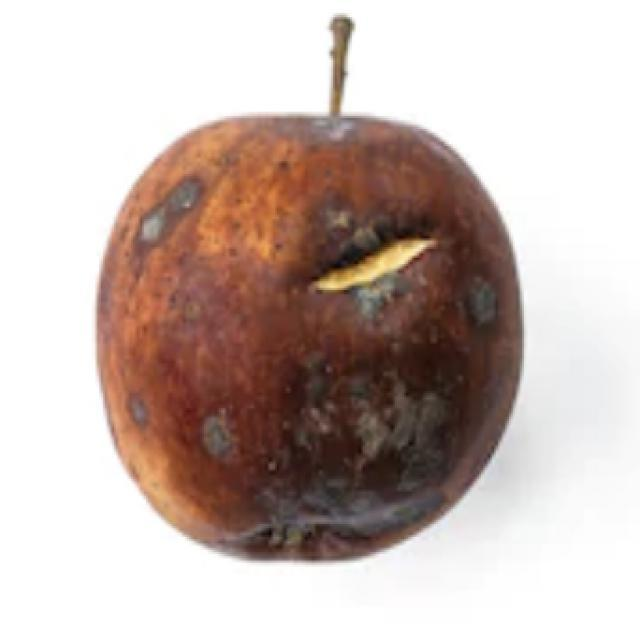Rotten: (121, 108, 512, 572)
